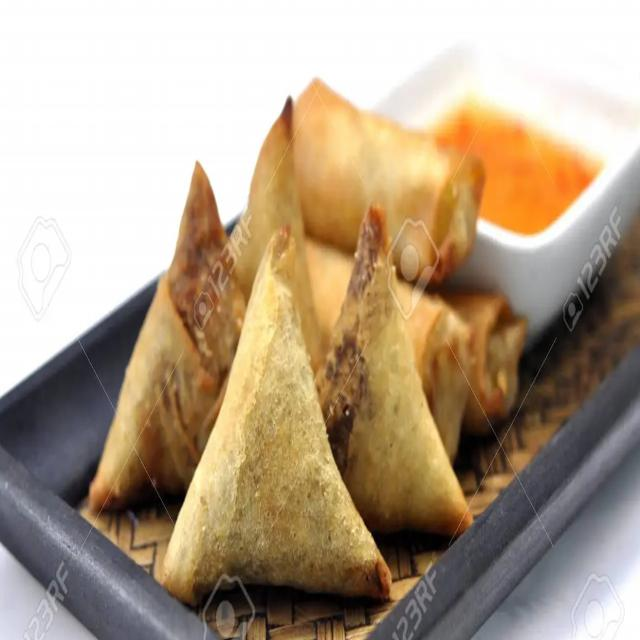Samosa: (82, 210, 384, 600)
Spring Rolls: (281, 74, 528, 416)
